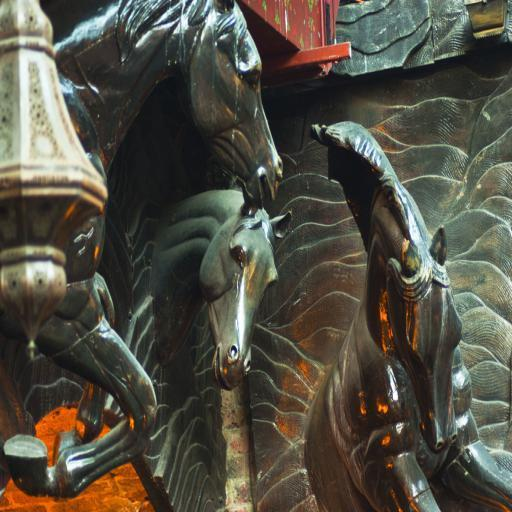horse: (0, 0, 284, 501), (304, 119, 512, 512), (147, 173, 295, 390)
